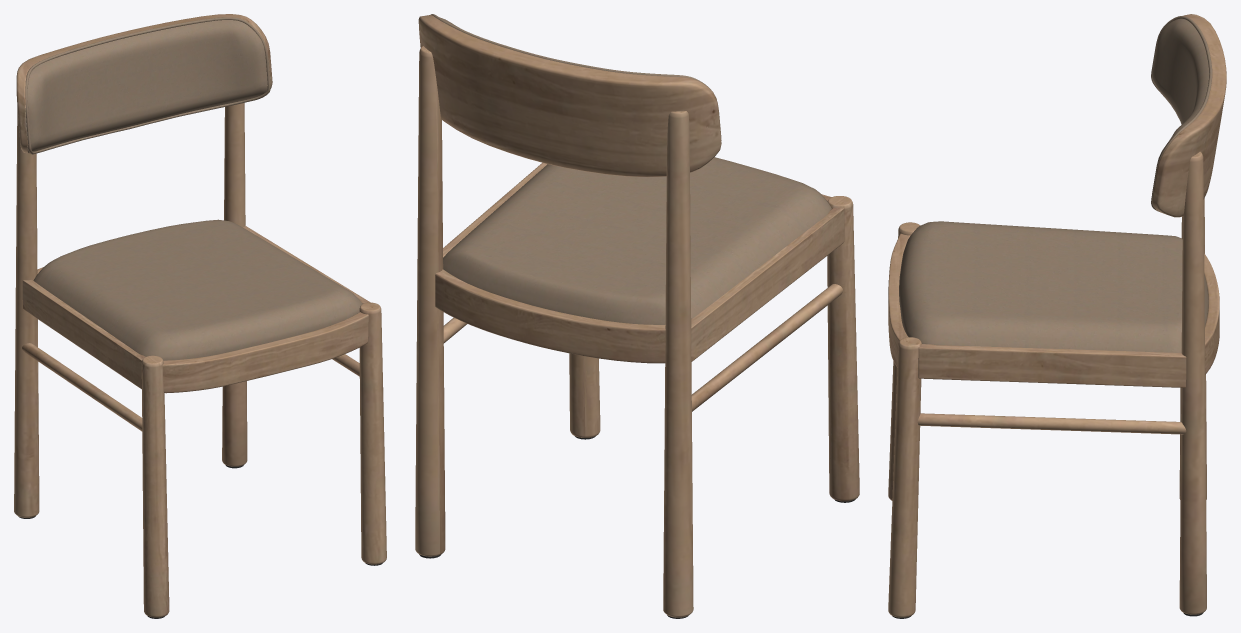
The model's file is BHID01477.glb.
3 renders of one model, left to right at view 1: azimuth 30°, elevation 25°; view 2: azimuth 150°, elevation 25°; view 3: azimuth 270°, elevation 25°, orthographic. The views are drawn at different scales.
Visible parts, largest first — view 1: BP_BHID01477; view 2: BP_BHID01477; view 3: BP_BHID01477.
Boxes of the visible parts, x1,y1,x2,y2 form: BP_BHID01477: (14,14,386,618); BP_BHID01477: (415,14,859,618); BP_BHID01477: (888,14,1226,618).
Bounding box in the file's own units: 0.4563 × 0.7826 × 0.4934.
Materials: 3 (2 with a texture image).
